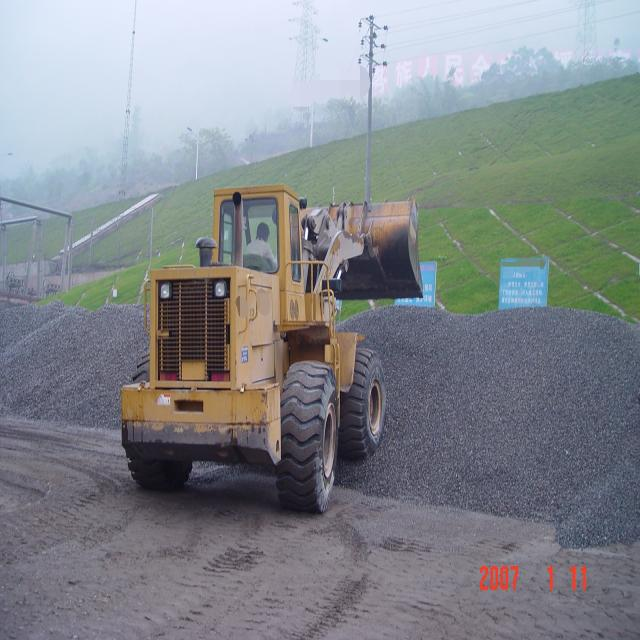machinery: (121, 183, 423, 513)
